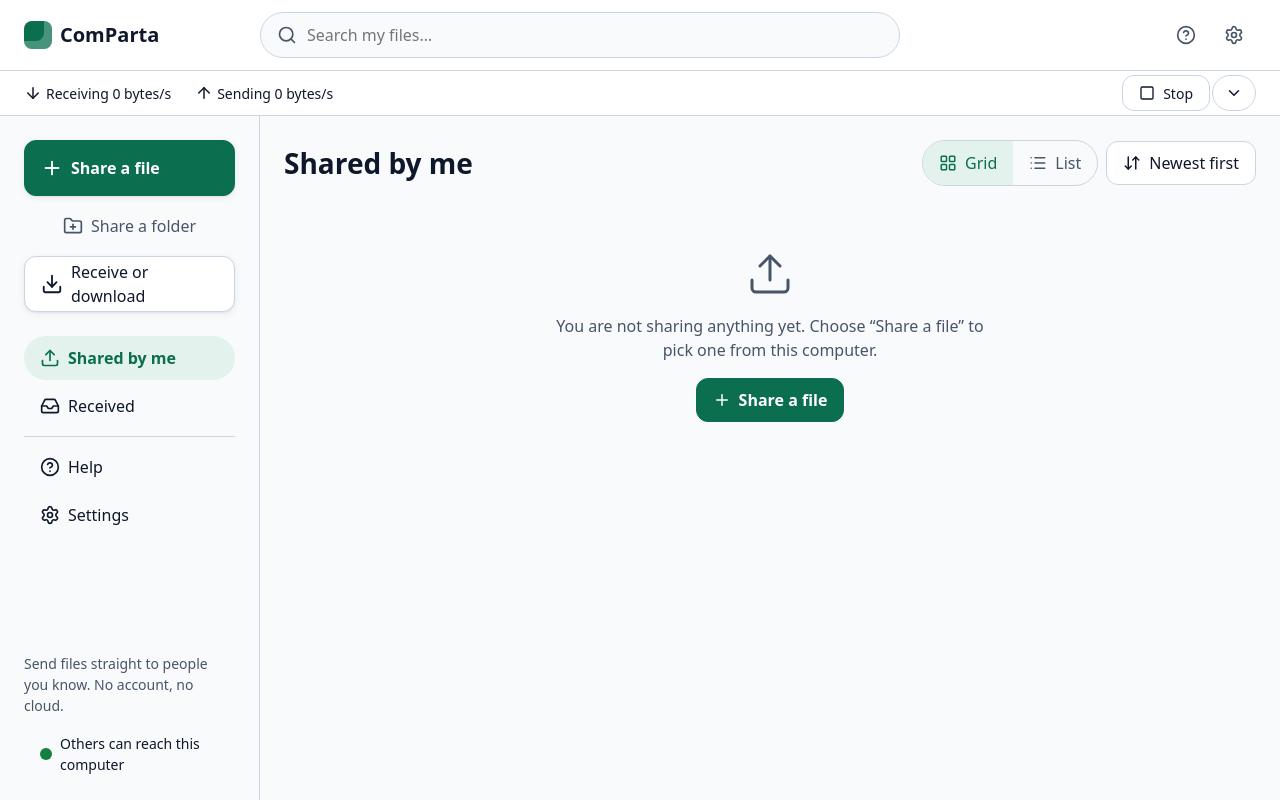
Test: the speed bar › closes the menu when the person clicks elsewhere
The width and height of the screenshot is (1280, 800).
Click the button named "More ways to stop". click: (1234, 93)
box: [1212,75,1256,111]
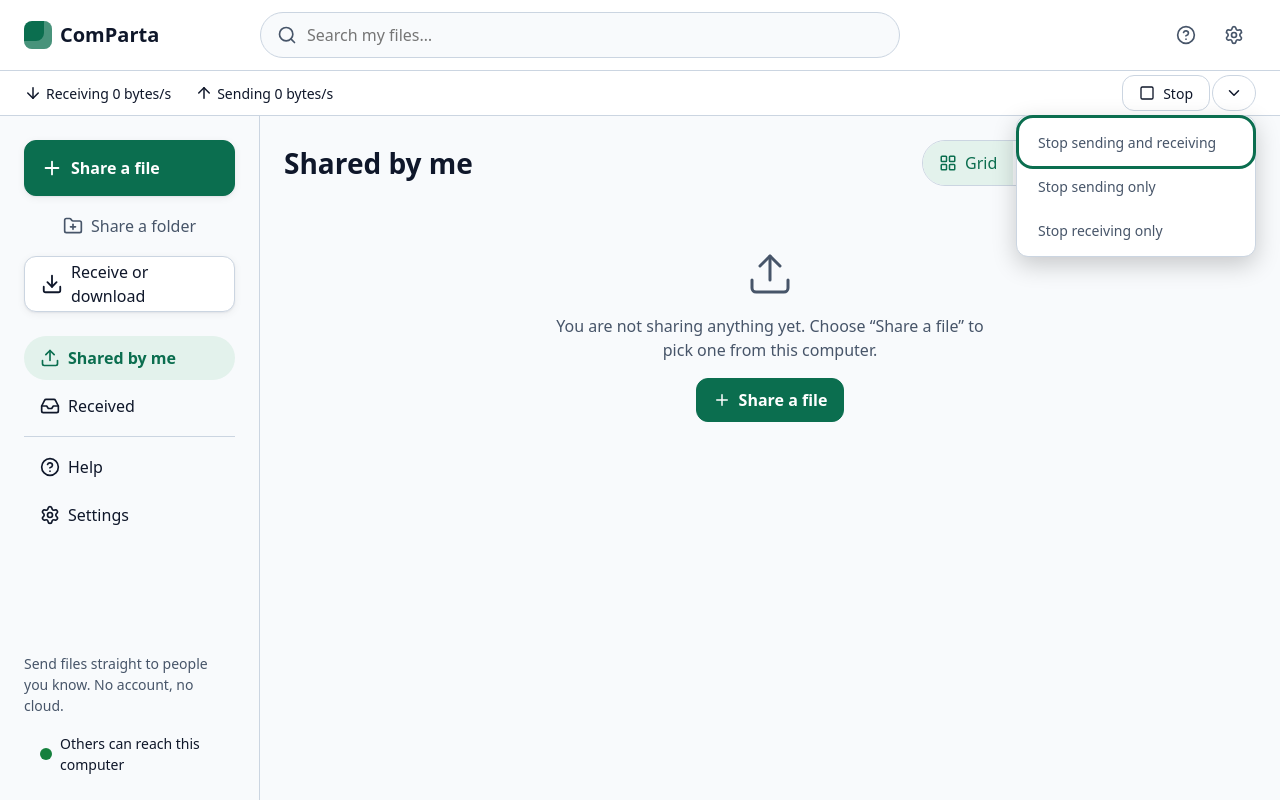
Click the heading "Shared by me". click: (378, 163)
box: [284,142,473,184]
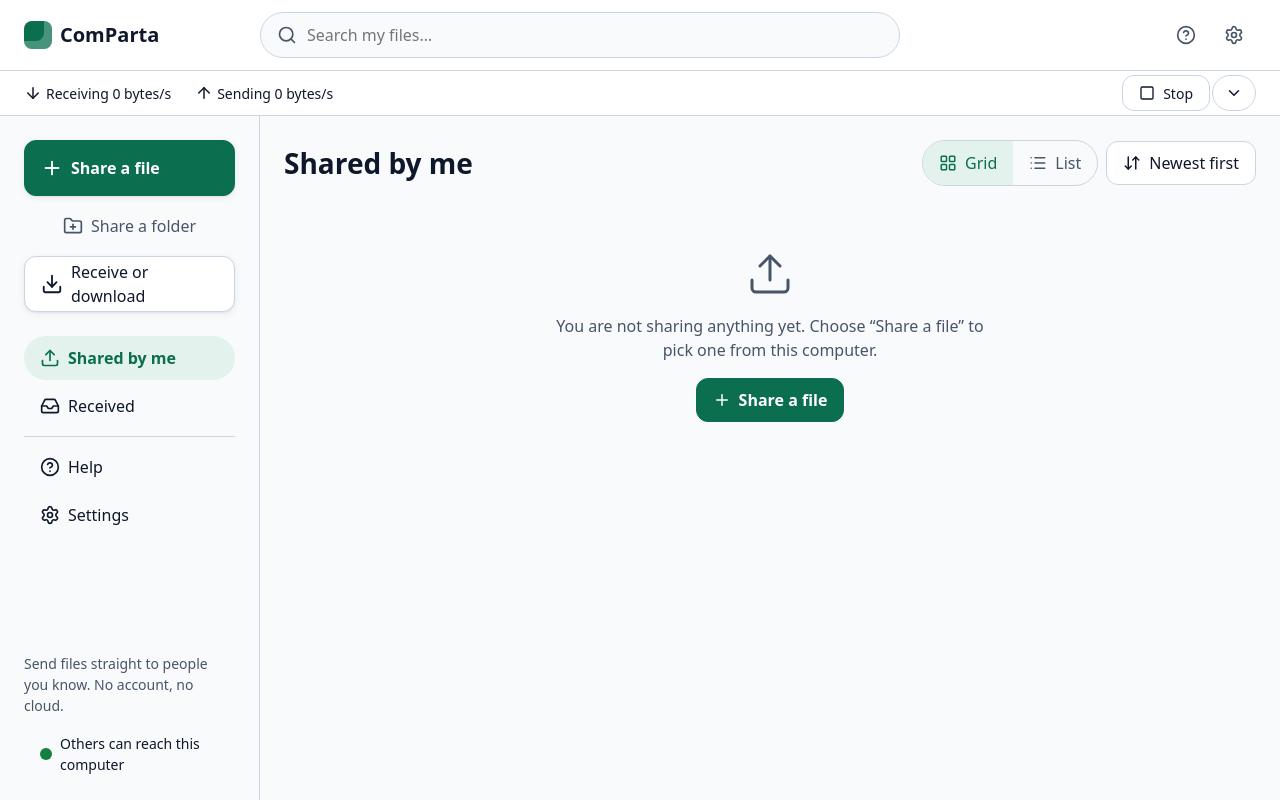
Expected: the menu is gone
